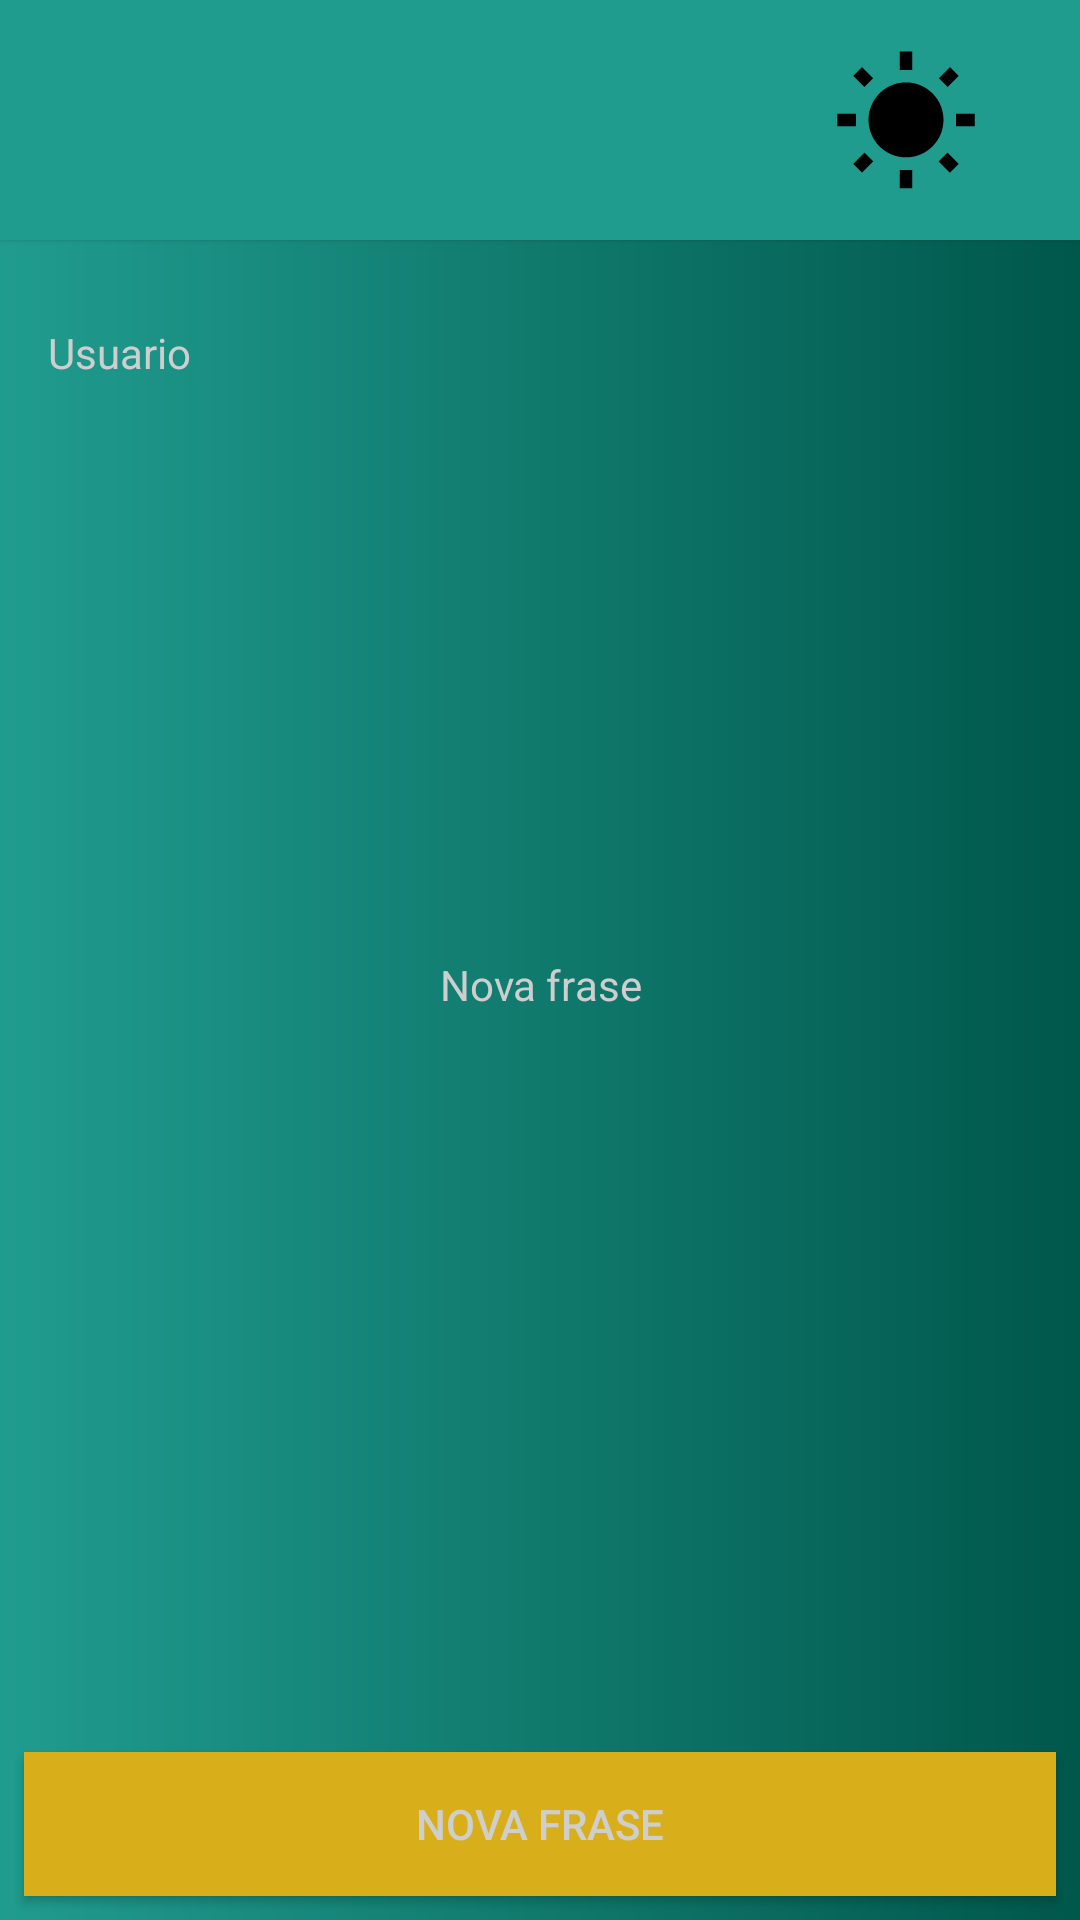

Icon bounding boxes for this 1080w x 1920h phone screenshot, format [x1=x1, y1=y1, x2=x2, y2=y2]:
sunny: [x1=837, y1=51, x2=975, y2=189]
